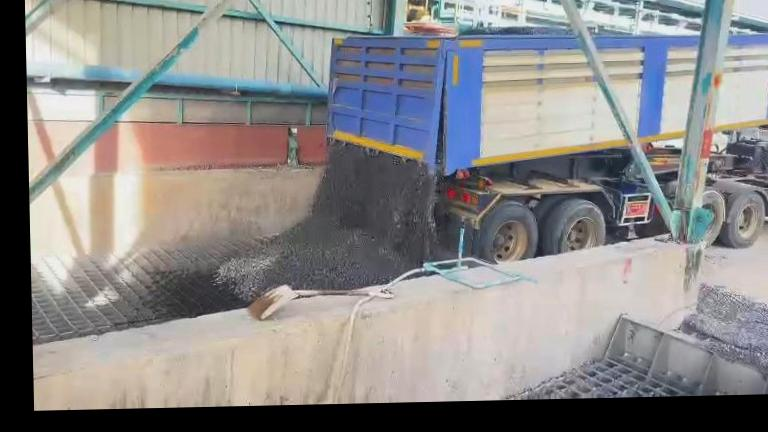gravel: (214, 145, 435, 300), (459, 25, 571, 36)
